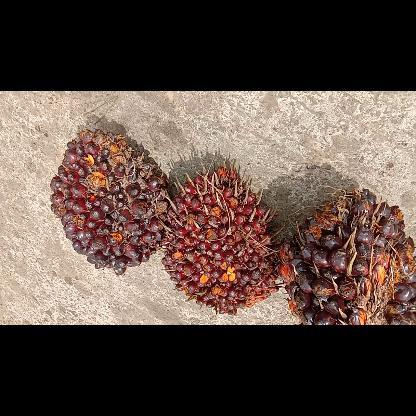Kurang masak: (162, 165, 278, 315), (51, 127, 166, 274)
TBS masak: (280, 186, 416, 324)
